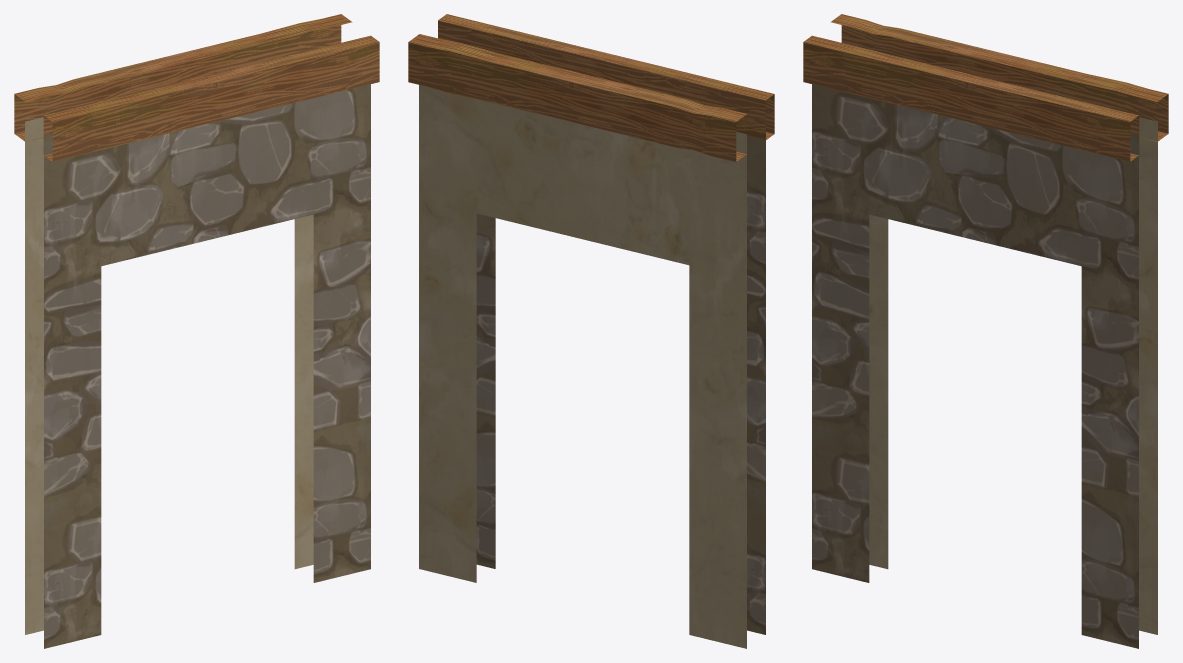
Rendered from Wall_UnevenBrick_Door_Flat.gltf.
3 views of the same model, side by side, from view 1: azimuth 30°, elevation 25°; view 2: azimuth 150°, elevation 25°; view 3: azimuth 330°, elevation 25° (orthographic).
Visible parts, largest first — view 1: Wall_UnevenBrick_Door_Flat; view 2: Wall_UnevenBrick_Door_Flat; view 3: Wall_UnevenBrick_Door_Flat.
Boxes of the visible parts, x1,y1,x2,y2 form: Wall_UnevenBrick_Door_Flat: (14,14,379,648); Wall_UnevenBrick_Door_Flat: (408,14,774,648); Wall_UnevenBrick_Door_Flat: (803,14,1168,648).
Size of the model in its own units: 2 by 3.12 by 0.4065.
Materials: 3 (3 with a texture image).
